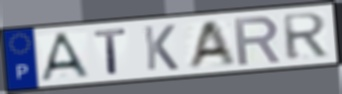A: (184, 18, 238, 71), (38, 31, 93, 83)
K: (142, 23, 181, 72)
R: (232, 14, 284, 67), (280, 11, 331, 63)
T: (92, 26, 130, 76)
